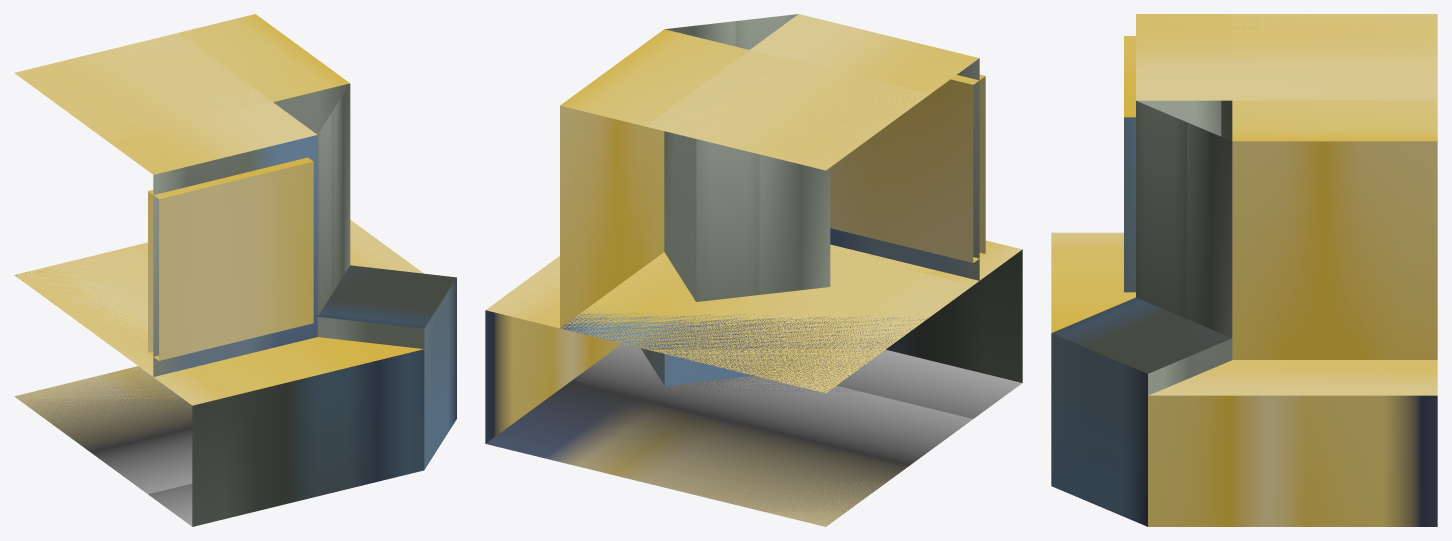
3 renders of one model, left to right at view 1: azimuth 30°, elevation 25°; view 2: azimuth 150°, elevation 25°; view 3: azimuth 270°, elevation 25°, orthographic. The views are drawn at different scales.
Parts seen in each view (by area): view 1: frame; view 2: frame; view 3: frame.
Boxes of the visible parts, box(x1,y1,x2,y2) form: frame: box(14, 14, 456, 526); frame: box(485, 14, 1022, 526); frame: box(1051, 14, 1437, 526).
Bounding box in the file's own units: 1 × 1 × 1.
